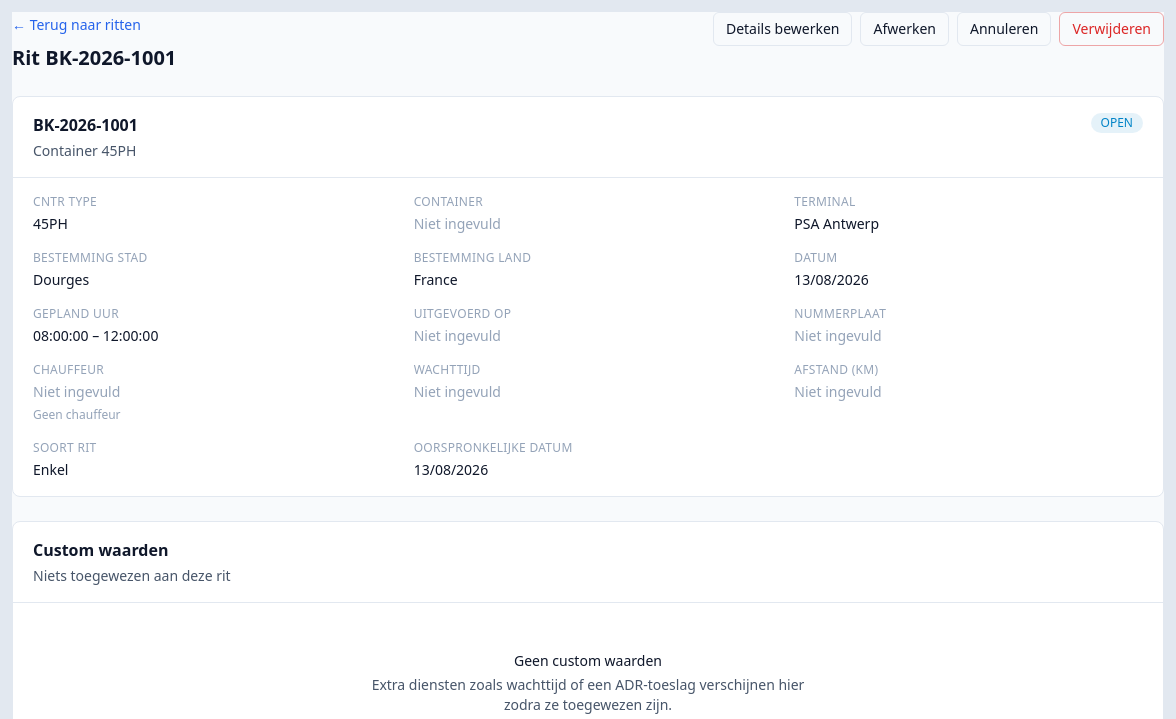
Scenario: The vehicle picker › the vehicle picker › keeps a since-deactivated vehicle selected
The image size is (1176, 719).
Click the button "Details bewerken" at [783, 29], box [713,12,852,46]
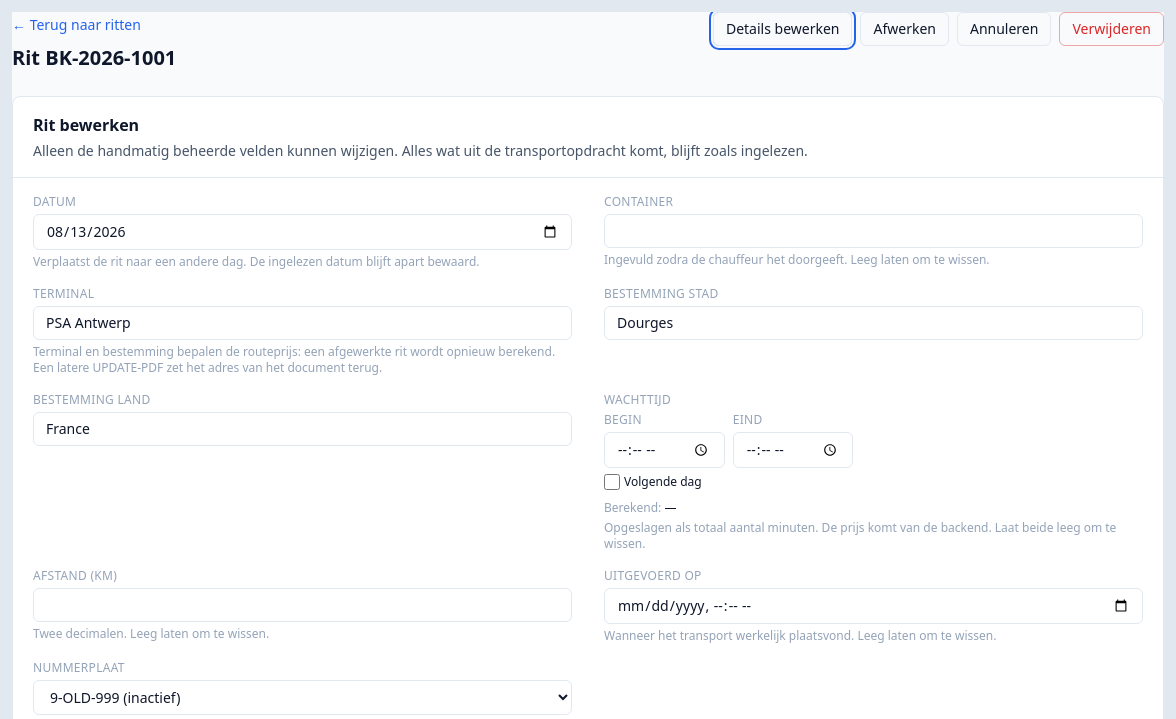
Check: the dropdown labelled "Nummerplaat" shows "9-OLD-999 (inactief)", box [33,680,572,715]
